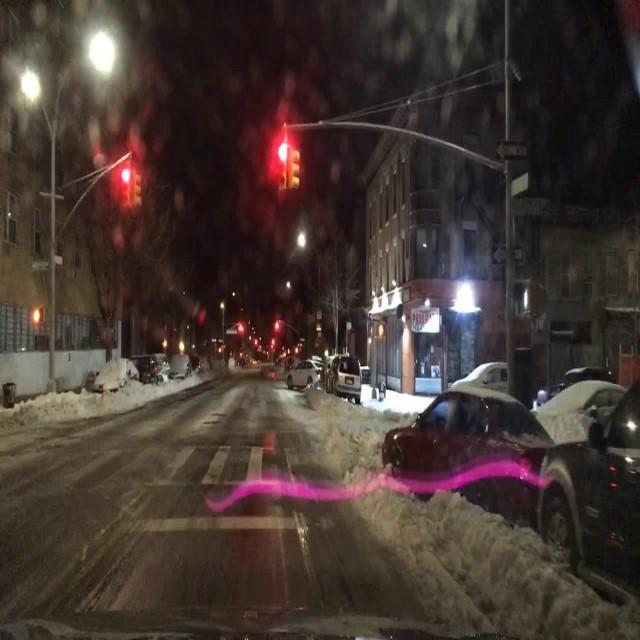normal: (379, 359, 640, 581), (322, 354, 363, 397), (284, 356, 318, 390)
